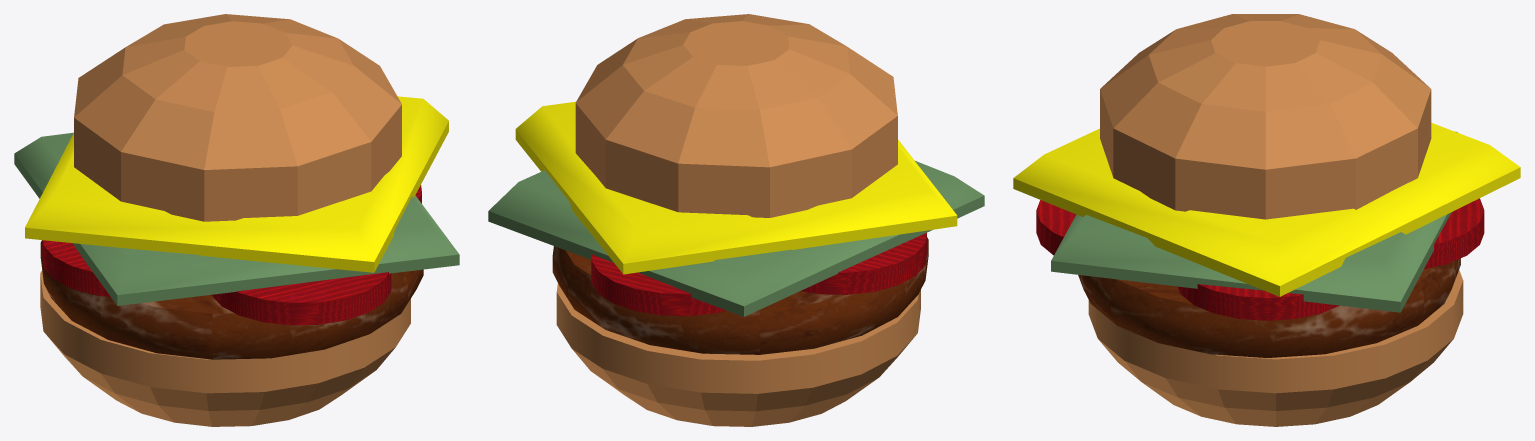
Rendered from Burger.fbx.
3 renders of one model, left to right at view 1: azimuth 30°, elevation 25°; view 2: azimuth 150°, elevation 25°; view 3: azimuth 270°, elevation 25°, orthographic. The views are drawn at different scales.
Visible parts, largest first — view 1: pCylinder21, pCube35, pCylinder27, pCube179, pCylinder22, pCylinder25, pCylinder24; view 2: pCylinder21, pCube35, pCylinder27, pCube179, pCylinder22, pCylinder26, pCylinder24; view 3: pCylinder21, pCube35, pCylinder27, pCylinder22, pCube179, pCylinder23, pCylinder26, pCylinder25.
Boxes of the visible parts, box(x1,y1,x2,y2) form: pCylinder21: box(74, 14, 401, 221); pCube35: box(25, 96, 448, 272); pCylinder27: box(40, 270, 410, 426); pCube179: box(14, 132, 459, 305); pCylinder22: box(40, 240, 423, 359); pCylinder25: box(211, 272, 391, 325); pCylinder24: box(42, 240, 110, 296); pCylinder21: box(575, 14, 897, 217); pCube35: box(515, 101, 957, 274); pCylinder27: box(556, 283, 920, 426); pCube179: box(488, 160, 984, 316); pCylinder22: box(552, 237, 928, 354); pCylinder26: box(591, 254, 725, 315); pCylinder24: box(800, 233, 926, 294); pCylinder21: box(1100, 14, 1431, 219); pCube35: box(1013, 123, 1520, 296); pCylinder27: box(1088, 270, 1463, 426); pCylinder22: box(1078, 258, 1460, 357); pCube179: box(1051, 131, 1457, 312); pCylinder23: box(1178, 284, 1339, 320); pCylinder26: box(1424, 198, 1484, 268); pCylinder25: box(1036, 200, 1076, 255).
Size of the model in its own units: 0.2331 by 0.1691 by 0.2331.
